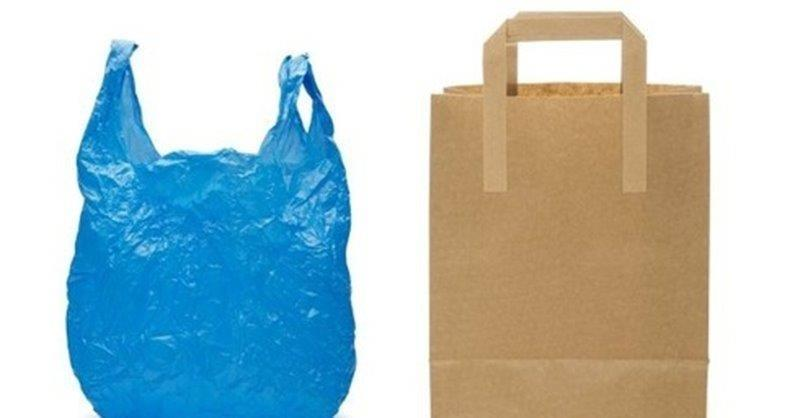paper: (427, 7, 710, 418)
plastic: (65, 35, 356, 418)
